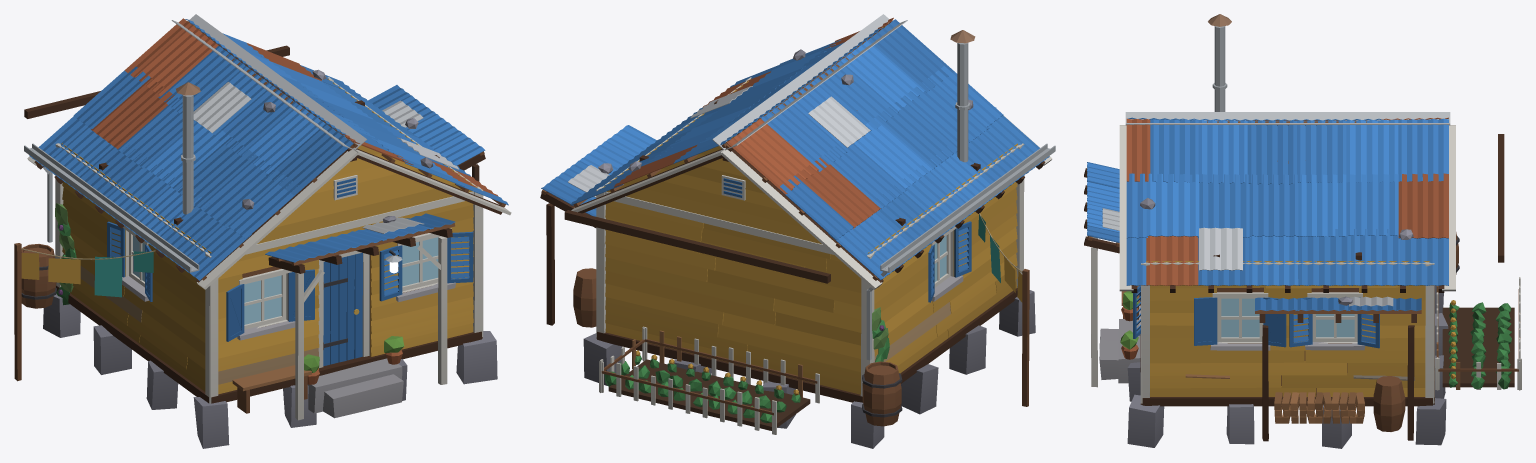
3 renders of one model, left to right at view 1: azimuth 30°, elevation 25°; view 2: azimuth 150°, elevation 25°; view 3: azimuth 270°, elevation 25°, orthographic. The views are drawn at different scales.
Visible parts, largest first — view 1: H18_ROOF, H18_WALL_E, H18_WALL_S, H18_BASE, H18_WALL_N, H18_DOOR_main; view 2: H18_ROOF, H18_WALL_W, H18_WALL_S, H18_BASE, H18_WALL_N; view 3: H18_ROOF, H18_WALL_N, H18_BASE, H18_WALL_W, H18_WALL_E.
Boxes of the visible parts, x1,y1,x2,y2 form: H18_ROOF: (24, 14, 511, 289); H18_WALL_E: (209, 133, 483, 420); H18_WALL_S: (14, 143, 217, 403); H18_BASE: (43, 285, 497, 448); H18_WALL_N: (327, 77, 485, 332); H18_DOOR_main: (323, 252, 362, 366); H18_ROOF: (564, 14, 1052, 289); H18_WALL_W: (596, 134, 869, 434); H18_WALL_S: (862, 143, 1055, 426); H18_BASE: (583, 288, 1035, 448); H18_WALL_N: (540, 78, 751, 333); H18_ROOF: (1119, 14, 1504, 292); H18_WALL_N: (1141, 261, 1434, 441); H18_BASE: (1099, 285, 1448, 448); H18_WALL_W: (1425, 262, 1521, 403); H18_WALL_E: (1084, 162, 1149, 403).
Bounding box in the file's own units: 7.6 × 5.44 × 6.93.
